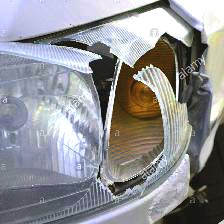head_lamp: (75, 33, 172, 191)
